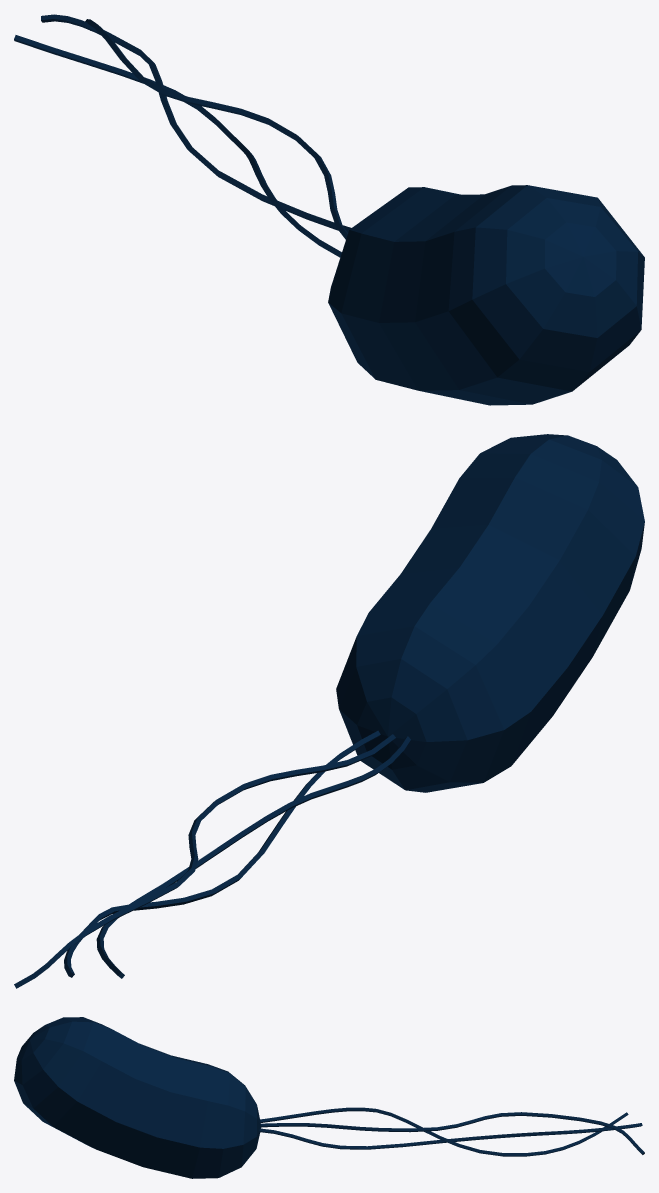
The model's file is Bacteria.FBX.
3 views of the same model, one above another, from view 1: azimuth 30°, elevation 25°; view 2: azimuth 150°, elevation 25°; view 3: azimuth 270°, elevation 25° (orthographic). The views are drawn at different scales.
Visible parts, largest first — view 1: Capsule001, Line001, Line002, Line003; view 2: Capsule001, Line001, Line003, Line002; view 3: Capsule001, Line001, Line002, Line003.
Boxes of the visible parts, <box> form: Capsule001: <box>328,185,644,405</box>; Line001: <box>85,19,347,239</box>; Line002: <box>41,14,351,232</box>; Line003: <box>14,35,341,257</box>; Capsule001: <box>336,434,644,792</box>; Line001: <box>14,734,395,988</box>; Line003: <box>96,736,410,978</box>; Line002: <box>64,730,380,977</box>; Capsule001: <box>14,1017,261,1178</box>; Line001: <box>261,1112,644,1154</box>; Line002: <box>259,1123,642,1149</box>; Line003: <box>260,1107,628,1156</box>.
Size of the model in its own units: 120 by 613 by 166.
